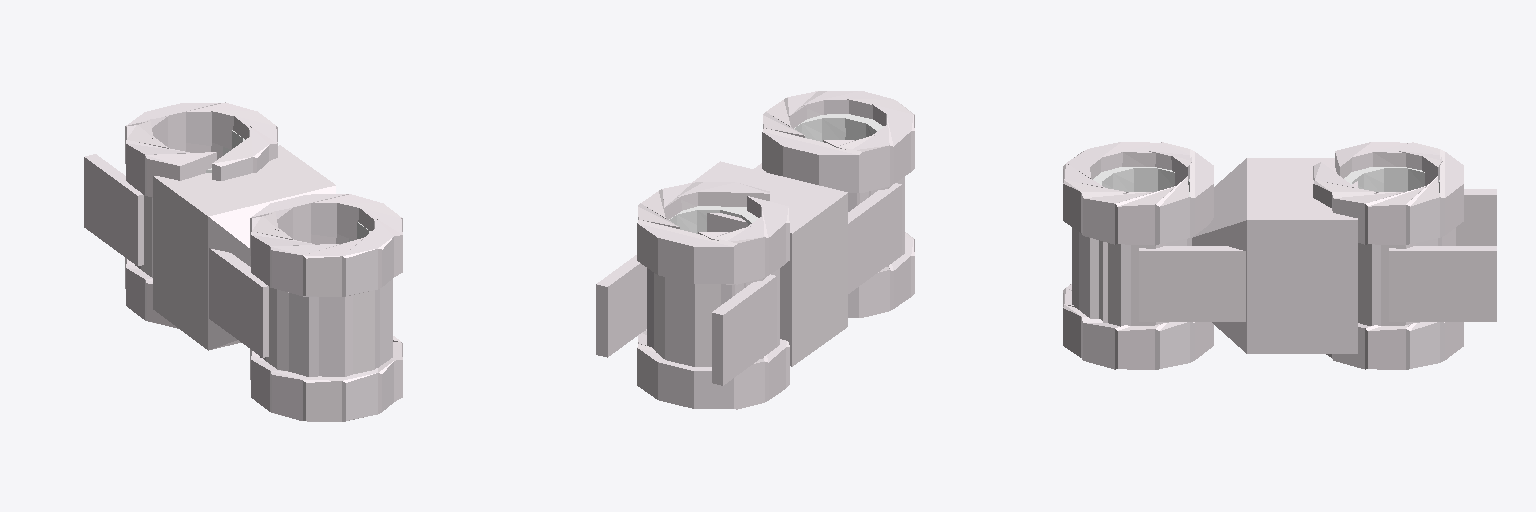
The model's file is billblaster_double.obj.
3 renders of one model, left to right at view 1: azimuth 30°, elevation 25°; view 2: azimuth 150°, elevation 25°; view 3: azimuth 270°, elevation 25°, orthographic.
Parts seen in each view (by area): view 1: billblaster_double; view 2: billblaster_double; view 3: billblaster_double.
Part boxes in pixels (left/top/right/bottom): billblaster_double: left=84, top=102, right=402, bottom=421; billblaster_double: left=596, top=91, right=914, bottom=409; billblaster_double: left=1063, top=142, right=1496, bottom=369.
Bounding box in the file's own units: 38.68 × 47.56 × 111.